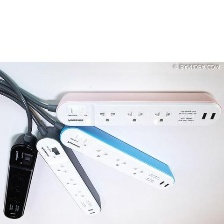three_eye_plug: (57, 117, 176, 191), (52, 86, 223, 128), (34, 124, 102, 217), (0, 129, 38, 222)
